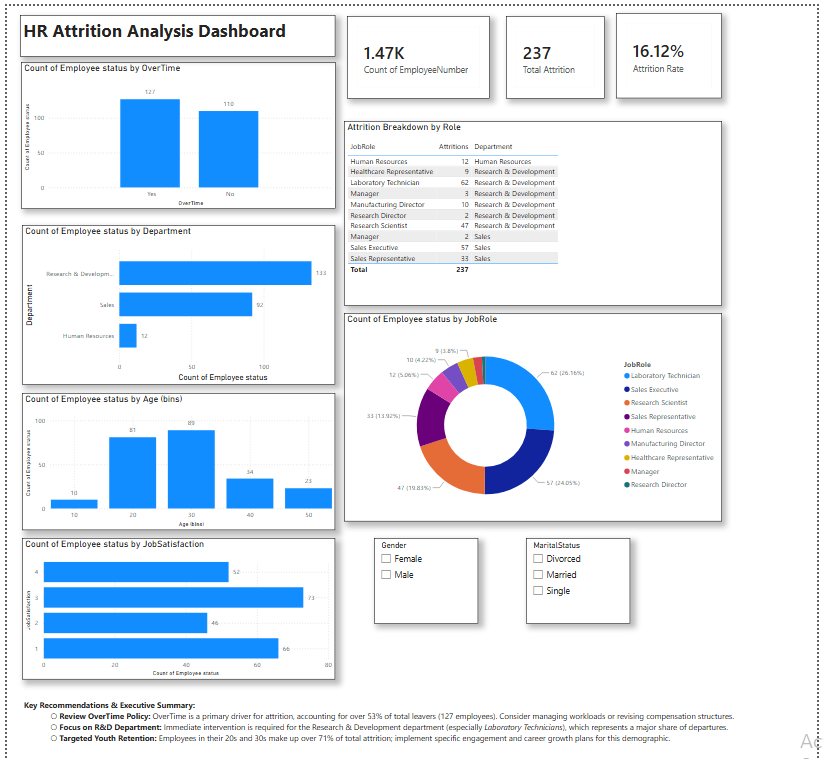

This screenshot's page, from the dashboard's own definition file:
{"tool":"powerbi","page":{"name":"Page 1","canvas":[1500,1500],"ordinal":0},"visuals":[{"type":"cardVisual","fields":{"Data":["CountNonNull(HR-Employee-Attrition.Employee status)"]},"box":[924,18,183.1,152.8],"z":0},{"type":"clusteredBarChart","fields":{"Category":["dim_job.Department"],"Y":["CountNonNull(HR-Employee-Attrition.Employee status)"]},"box":[28.2,405.9,580.1,295.5],"z":1000},{"type":"clusteredColumnChart","fields":{"Category":["dim_job.OverTime"],"Y":["CountNonNull(HR-Employee-Attrition.Employee status)"]},"box":[25.8,104.2,582.5,272.2],"z":2000},{"type":"slicer","fields":{"Values":["dim_employee.Gender"]},"box":[679.6,985.2,193.2,159.5],"z":3000},{"type":"textbox","box":[24.5,17.2,583.7,77.3],"z":4000},{"type":"cardVisual","fields":{"Data":["CountNonNull(dim_job.EmployeeNumber)"]},"box":[630,18,264,152.8],"z":5000},{"type":"slicer","fields":{"Values":["dim_employee.MaritalStatus"]},"box":[961.1,985.2,192.6,159.3],"z":6000},{"type":"donutChart","fields":{"Category":["dim_job.JobRole"],"Y":["CountNonNull(HR-Employee-Attrition.Employee status)"]},"box":[624.2,567.8,700.2,386.3],"z":7000},{"type":"clusteredColumnChart","fields":{"Y":["CountNonNull(HR-Employee-Attrition.Employee status)"],"Category":["dim_employee.Age (bins)"]},"box":[28.2,716.2,580.1,253.9],"z":8000},{"type":"barChart","fields":{"Category":["HR-Employee-Attrition.JobSatisfaction"],"Y":["CountNonNull(HR-Employee-Attrition.Employee status)"]},"box":[28.2,986,580.1,262.4],"z":9000},{"type":"tableEx","title":"Attrition Breakdown by Role","fields":{"Values":["dim_job.JobRole","HR-Employee-Attrition.Employee status","dim_job.Department"]},"box":[624.2,212.2,700.2,342.1],"z":10000},{"type":"cardVisual","fields":{"Data":["dim_employee.Attrition Rate"]},"box":[1128.2,13.5,196.2,158.2],"z":11000},{"type":"textbox","box":[25.7,1279.7,1356.8,190.5],"z":12000}]}

Visuals, with their boxes in screenshot pixels (x1, y1, x2, y2):
cardVisual - CountNonNull(HR-Employee-Attrition.Employee status): x1=504, y1=0, x2=602, y2=42
clusteredBarChart - dim_job.Department x CountNonNull(HR-Employee-Attrition.Employee status): x1=24, y1=168, x2=335, y2=327
clusteredColumnChart - dim_job.OverTime x CountNonNull(HR-Employee-Attrition.Employee status): x1=22, y1=7, x2=335, y2=153
slicer - dim_employee.Gender: x1=373, y1=479, x2=477, y2=564
textbox: x1=22, y1=0, x2=335, y2=1
cardVisual - CountNonNull(dim_job.EmployeeNumber): x1=346, y1=0, x2=488, y2=42
slicer - dim_employee.MaritalStatus: x1=524, y1=479, x2=627, y2=564
donutChart - dim_job.JobRole x CountNonNull(HR-Employee-Attrition.Employee status): x1=343, y1=255, x2=719, y2=462
clusteredColumnChart - CountNonNull(HR-Employee-Attrition.Employee status) x dim_employee.Age (bins): x1=24, y1=335, x2=335, y2=471
barChart - HR-Employee-Attrition.JobSatisfaction x CountNonNull(HR-Employee-Attrition.Employee status): x1=24, y1=479, x2=335, y2=620
"Attrition Breakdown by Role" tableEx: x1=343, y1=64, x2=719, y2=248
cardVisual - dim_employee.Attrition Rate: x1=613, y1=0, x2=719, y2=43
textbox: x1=22, y1=637, x2=750, y2=739
